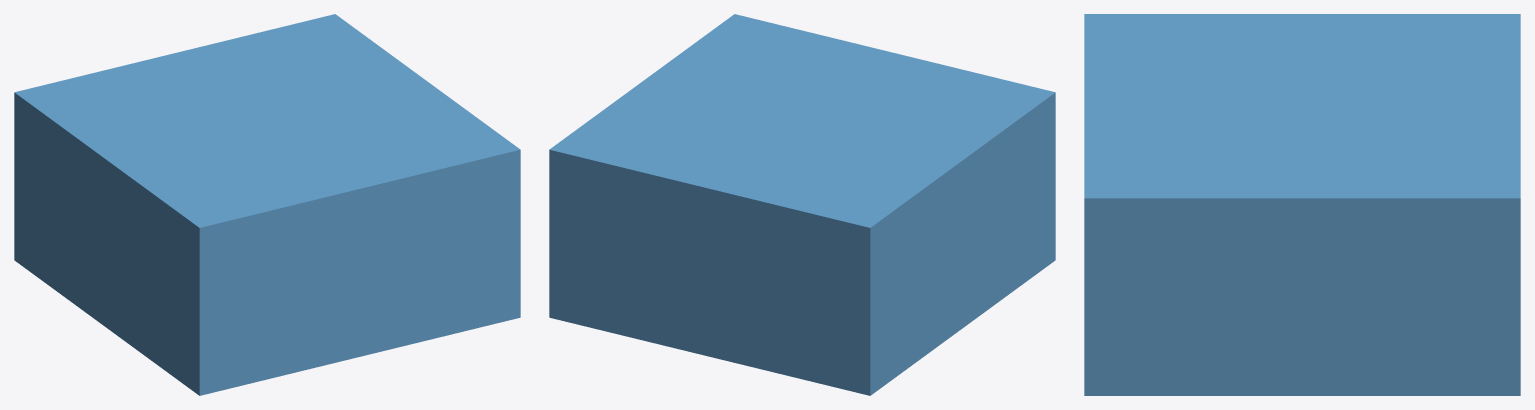
Rendered from Water_TopHalf.glb.
The picture shows the model from 3 angles, left to right: view 1: azimuth 30°, elevation 25°; view 2: azimuth 150°, elevation 25°; view 3: azimuth 270°, elevation 25°; orthographic projection. The views are drawn at different scales.
Visible parts, largest first — view 1: Water_TopHalf_body; view 2: Water_TopHalf_body; view 3: Water_TopHalf_body.
Boxes of the visible parts, bbox=[...] form: Water_TopHalf_body: bbox=[14, 14, 520, 395]; Water_TopHalf_body: bbox=[549, 14, 1055, 395]; Water_TopHalf_body: bbox=[1084, 14, 1520, 395].
Size of the model in its own units: 1 by 0.5 by 1.
